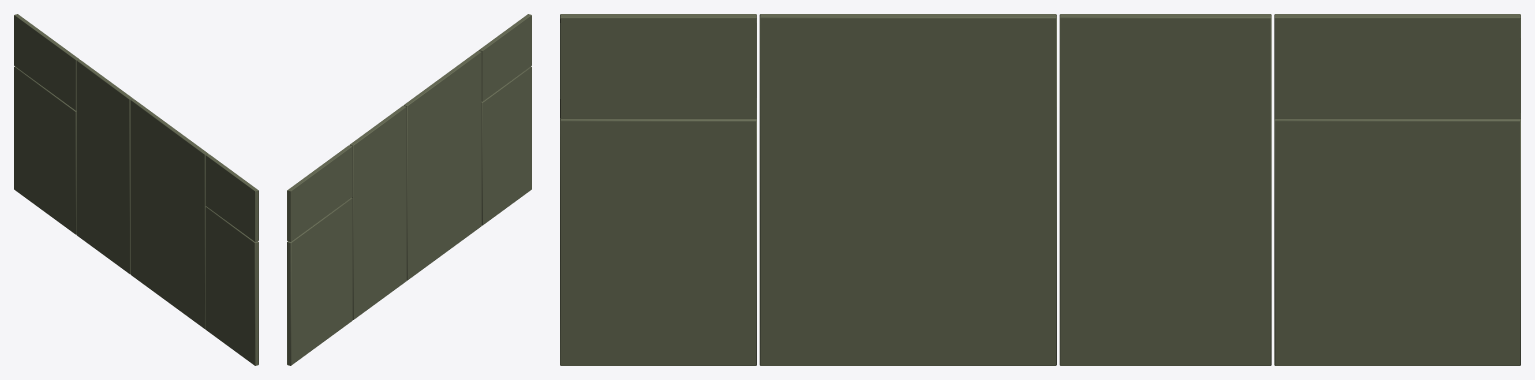
Rendered from furniture_1.glb.
The picture shows the model from 3 angles, left to right: view 1: azimuth 30°, elevation 25°; view 2: azimuth 150°, elevation 25°; view 3: azimuth 270°, elevation 25°; orthographic projection. The views are drawn at different scales.
Parts seen in each view (by area): view 1: GF_Fix_Island_Body.002; view 2: GF_Fix_Island_Body.002; view 3: GF_Fix_Island_Body.002.
Part boxes in pixels (x1,y1,x2,y2): GF_Fix_Island_Body.002: (14,14,258,365); GF_Fix_Island_Body.002: (287,14,531,365); GF_Fix_Island_Body.002: (560,14,1520,365).
Size of the model in its own units: 0.0205 by 0.8398 by 2.1.
